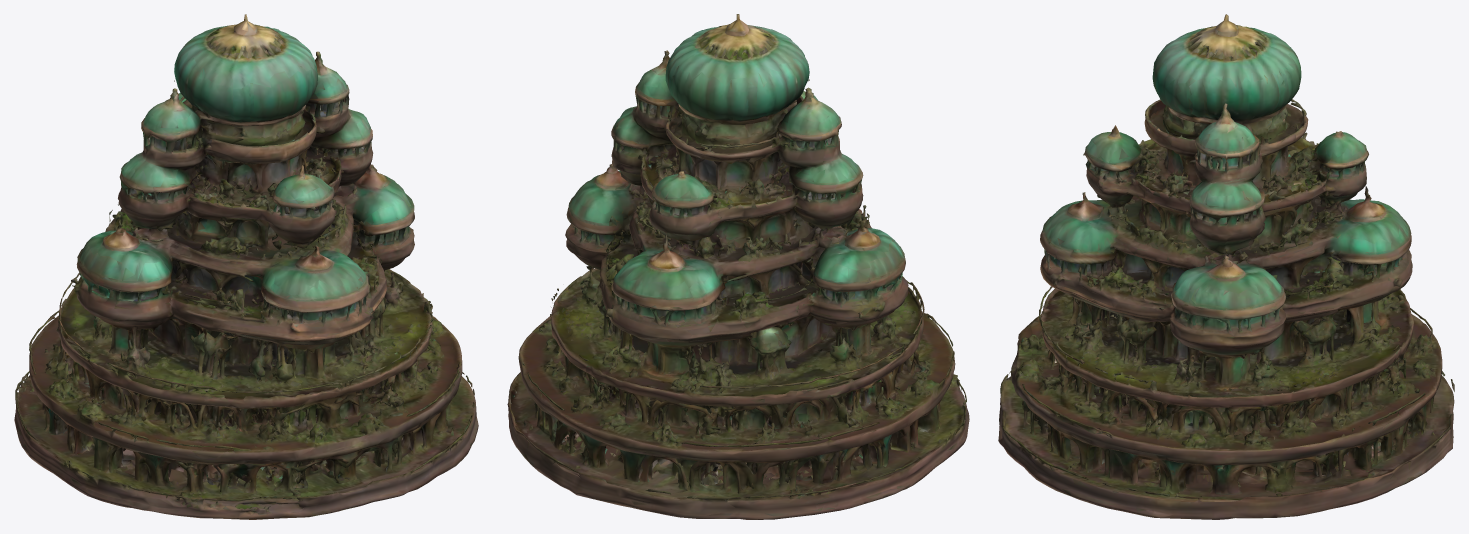
The model's file is Verdant_Palace.glb.
3 renders of one model, left to right at view 1: azimuth 30°, elevation 25°; view 2: azimuth 150°, elevation 25°; view 3: azimuth 270°, elevation 25°, orthographic.
Parts seen in each view (by area): view 1: Verdant_Palace; view 2: Verdant_Palace; view 3: Verdant_Palace.
Part boxes in pixels (x1,y1,x2,y2): Verdant_Palace: (14, 14, 478, 519); Verdant_Palace: (507, 14, 969, 519); Verdant_Palace: (998, 14, 1454, 519).
Bounding box in the file's own units: 1.97 × 1.97 × 1.98.
Materials: 1 (1 with a texture image).
